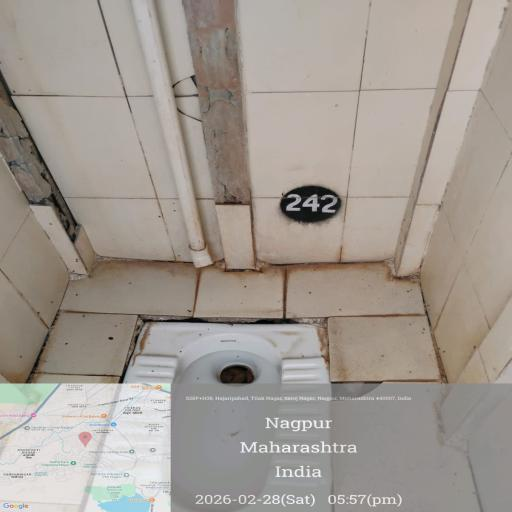clean_floor: (32, 42, 470, 204)
clean_indian: (112, 317, 339, 512)
partial_dirty_floor: (47, 252, 512, 512)
